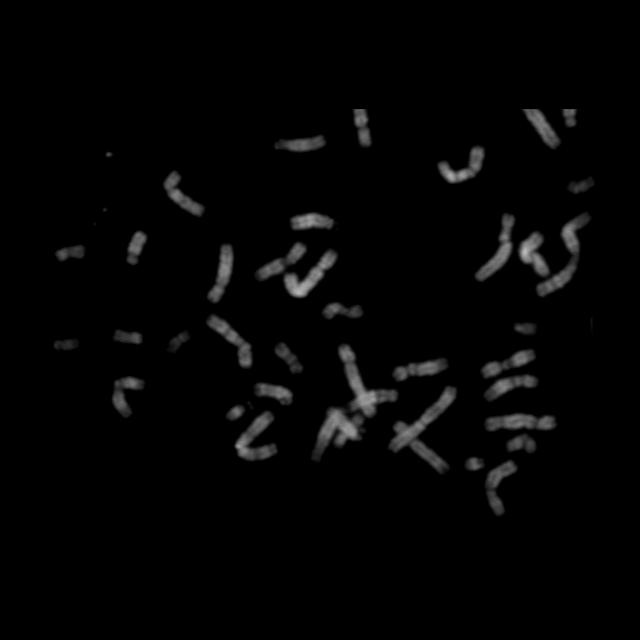chromosome: (536, 212, 594, 298), (387, 386, 457, 452), (391, 423, 449, 475), (339, 344, 377, 414), (473, 214, 512, 282), (205, 316, 252, 368), (286, 249, 336, 297), (164, 167, 210, 217), (234, 411, 280, 461), (311, 403, 344, 459), (438, 146, 484, 184), (206, 243, 234, 305), (256, 242, 304, 278), (484, 412, 556, 434), (487, 462, 517, 514), (523, 109, 561, 150), (348, 107, 380, 151), (483, 349, 535, 376), (393, 357, 447, 383), (485, 375, 535, 403), (276, 131, 329, 157), (347, 386, 399, 412), (122, 225, 150, 272), (112, 377, 143, 419), (520, 234, 548, 276), (336, 414, 362, 450), (328, 410, 359, 440), (255, 382, 293, 406), (322, 302, 363, 324), (291, 212, 334, 232), (276, 344, 302, 376), (505, 434, 537, 458), (165, 331, 189, 355), (56, 244, 87, 262), (114, 329, 141, 347), (514, 316, 536, 338), (464, 453, 486, 475), (224, 404, 246, 421), (52, 338, 76, 352)
